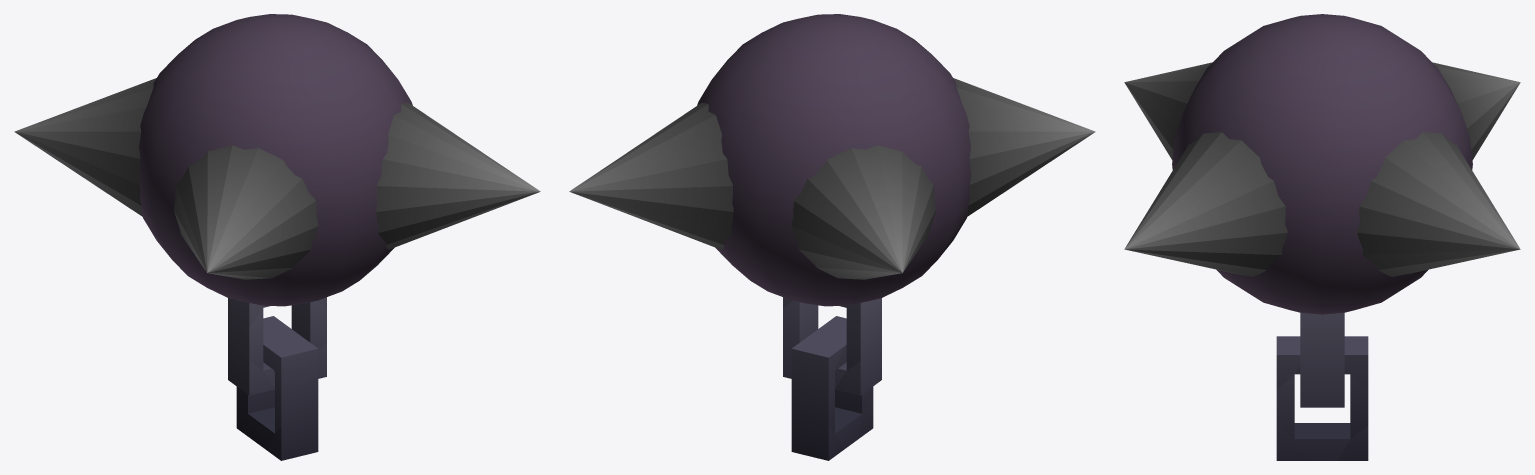
File: SpikeBall_v2.fbx
3 views of the same model, side by side, from view 1: azimuth 30°, elevation 25°; view 2: azimuth 150°, elevation 25°; view 3: azimuth 270°, elevation 25° (orthographic). The views are drawn at different scales.
Parts seen in each view (by area): view 1: Sphere, Cone, link, link_2; view 2: Sphere, Cone, link, link_2; view 3: Sphere, Cone, link, link_2.
Part boxes in pixels (x1,y1,x2,y2): Sphere: [138, 14, 412, 306]; Cone: [14, 78, 540, 279]; link: [236, 316, 318, 460]; link_2: [228, 297, 326, 395]; Sphere: [697, 14, 971, 306]; Cone: [569, 78, 1095, 279]; link: [791, 316, 873, 460]; link_2: [783, 297, 881, 395]; Sphere: [1172, 14, 1472, 314]; Cone: [1124, 62, 1520, 276]; link: [1276, 336, 1368, 460]; link_2: [1300, 312, 1344, 407].
Size of the model in its own units: 530 by 626 by 531.
1 material, 1 textured.
